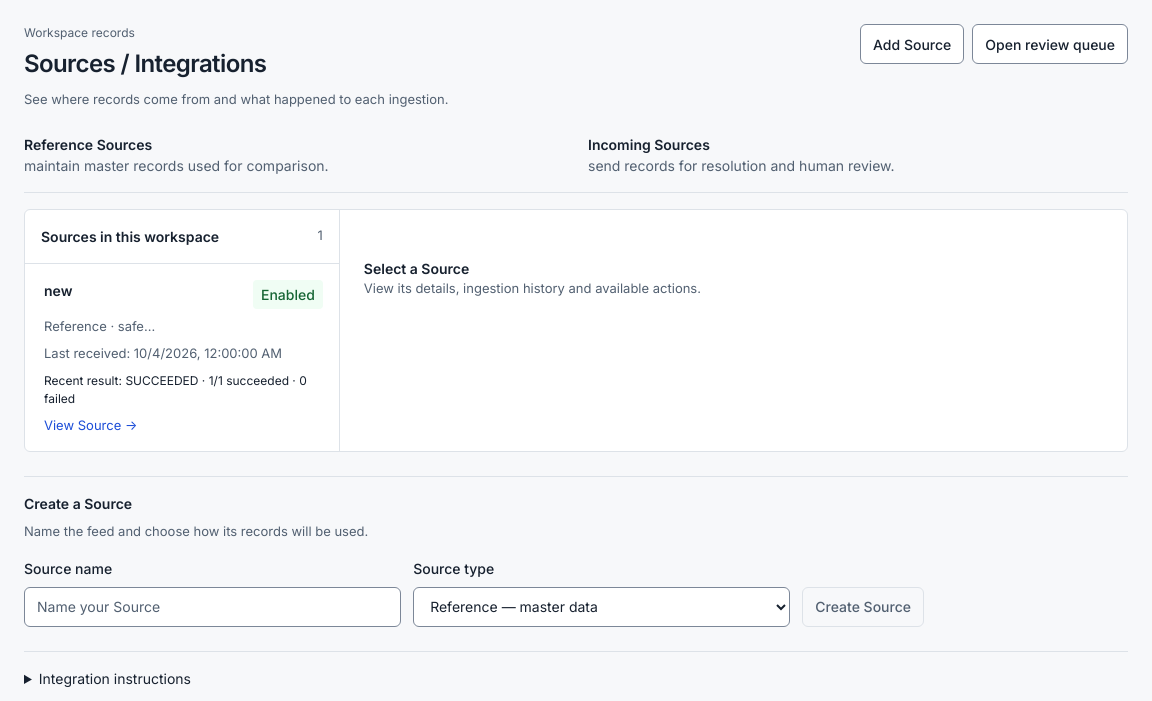
Test: Source authority and history fidelity › ignores late former-mount history without overwriting new Source results
Expected: the text "Recent result: SUCCEEDED · 1/1 succeeded · 0 failed" is shown, [44,372,323,408]
Click the button with aria-label "View Source new".
click(182, 357)  # box [25,264,339,451]
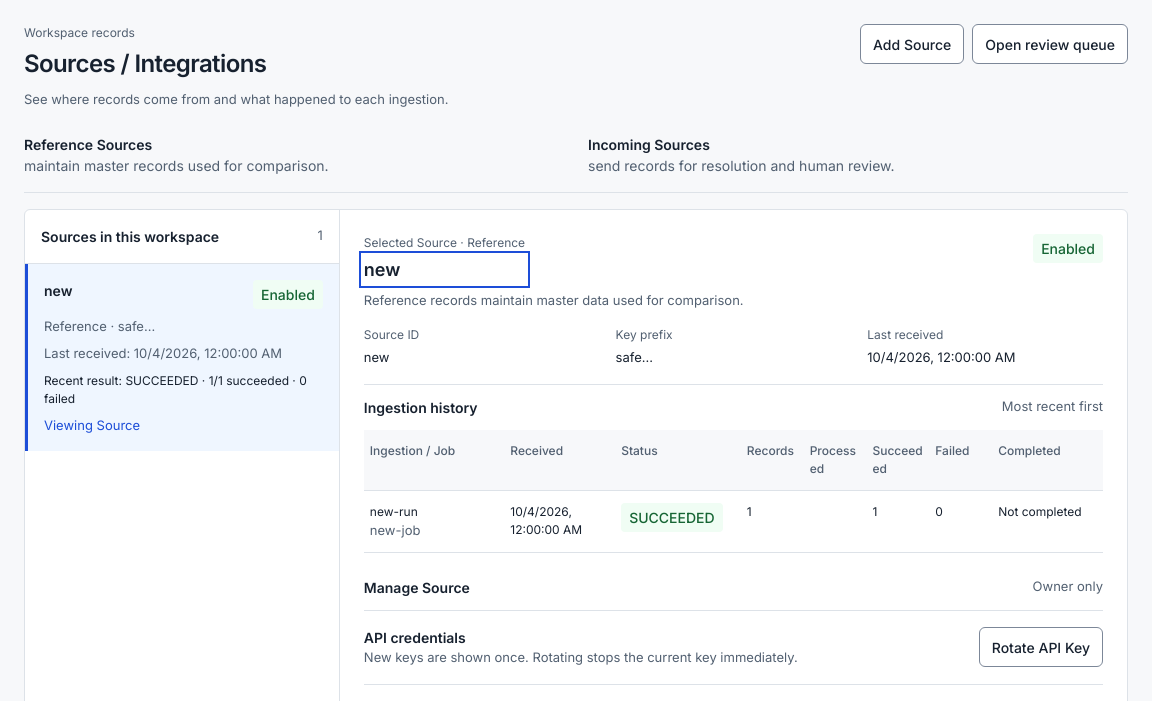
Expected: the cell "new-run new-job" is shown, [364,490,504,552]
